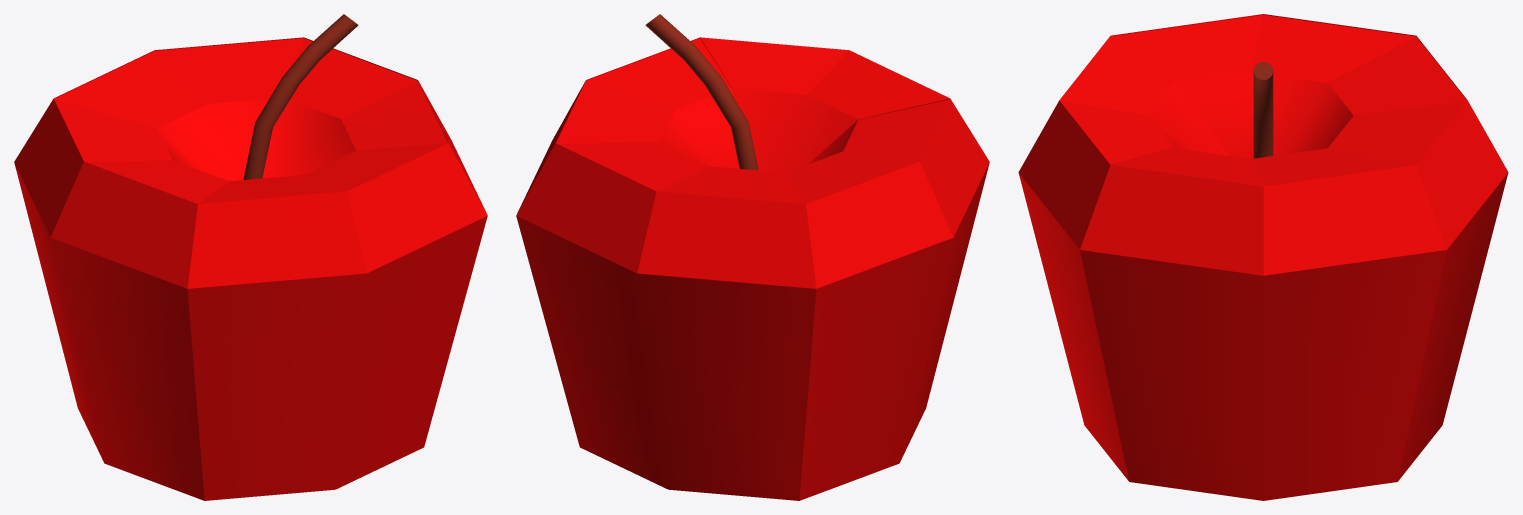
Rendered from Apple.FBX.
3 views of the same model, side by side, from view 1: azimuth 30°, elevation 25°; view 2: azimuth 150°, elevation 25°; view 3: azimuth 270°, elevation 25° (orthographic). The views are drawn at different scales.
Parts seen in each view (by area): view 1: Box001, Cylinder001; view 2: Box001, Cylinder001; view 3: Box001, Cylinder001.
Boxes of the visible parts, bbox=[...] form: Box001: bbox=[14, 37, 487, 500]; Cylinder001: bbox=[243, 14, 358, 179]; Box001: bbox=[516, 37, 989, 500]; Cylinder001: bbox=[645, 14, 758, 170]; Box001: bbox=[1018, 14, 1508, 500]; Cylinder001: bbox=[1253, 61, 1273, 158].
Bounding box in the file's own units: 62.67 × 58.21 × 62.67.
